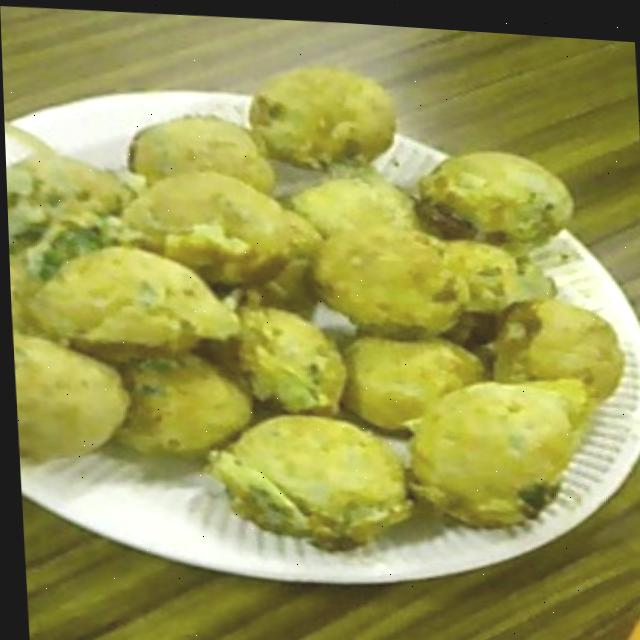炸货点心: (1, 43, 608, 546)
